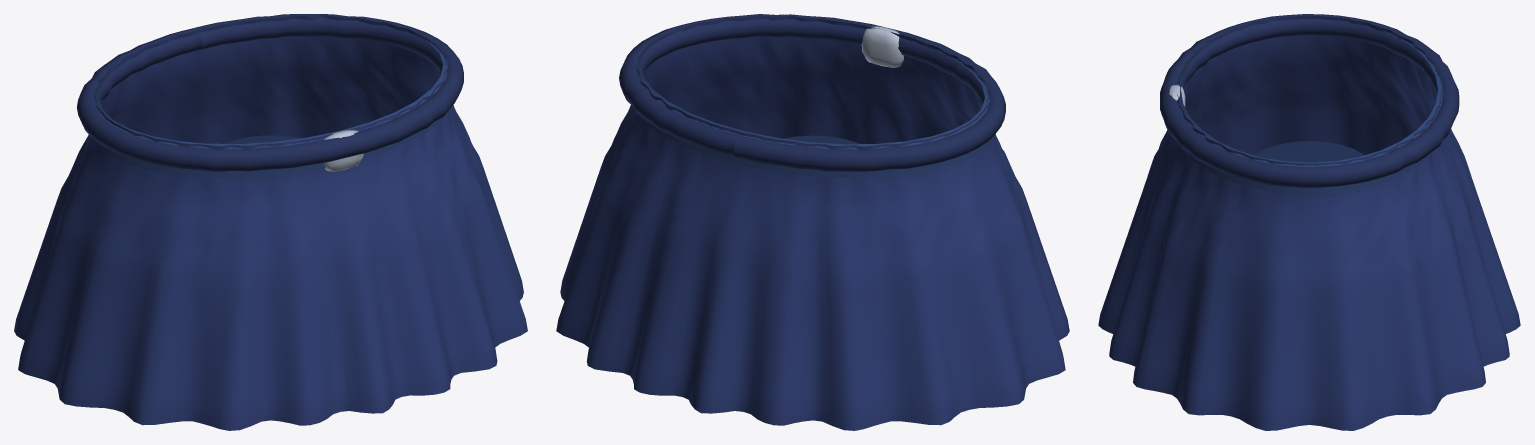
The model's file is pack_bottoms.glb.
3 views of the same model, side by side, from view 1: azimuth 30°, elevation 25°; view 2: azimuth 150°, elevation 25°; view 3: azimuth 270°, elevation 25° (orthographic). The views are drawn at different scales.
Parts seen in each view (by area): view 1: Bottom_Skirt, Bottom_Pants; view 2: Bottom_Skirt, Bottom_Pants; view 3: Bottom_Skirt, Bottom_Pants, Bottom_Pants_Leg_L.
Boxes of the visible parts, <box> form: Bottom_Skirt: <box>14,14,527,430</box>; Bottom_Pants: <box>90,33,447,179</box>; Bottom_Skirt: <box>556,14,1069,430</box>; Bottom_Pants: <box>632,26,993,180</box>; Bottom_Skirt: <box>1098,14,1520,430</box>; Bottom_Pants: <box>1169,30,1443,196</box>; Bottom_Pants_Leg_L: <box>1255,141,1363,162</box>.
Size of the model in its own units: 0.403 by 0.22 by 0.341.
